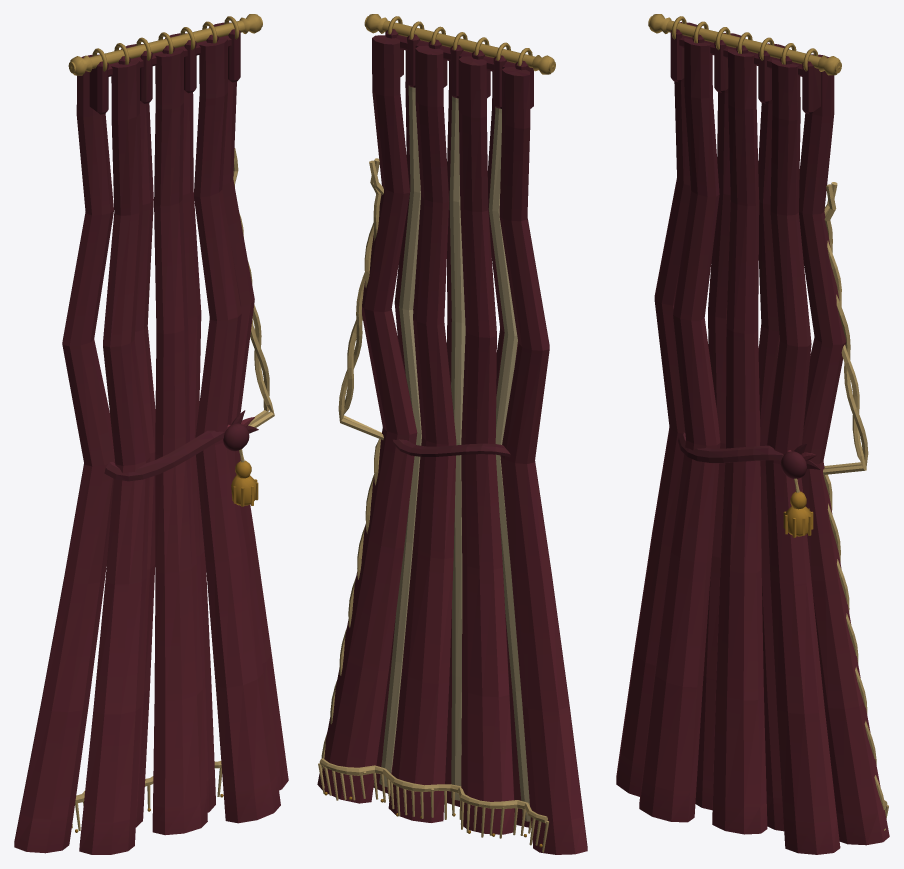
The model's file is curtain-panel.glb.
The picture shows the model from 3 angles, left to right: view 1: azimuth 30°, elevation 25°; view 2: azimuth 150°, elevation 25°; view 3: azimuth 330°, elevation 25°; orthographic projection.
Parts seen in each view (by area): view 1: curtain_panel; view 2: curtain_panel; view 3: curtain_panel.
Part boxes in pixels (left/top/right/bottom): curtain_panel: left=14, top=14, right=288, bottom=854; curtain_panel: left=317, top=14, right=587, bottom=854; curtain_panel: left=616, top=14, right=889, bottom=854.
Size of the model in its own units: 0.8635 by 2.42 by 0.2336.
